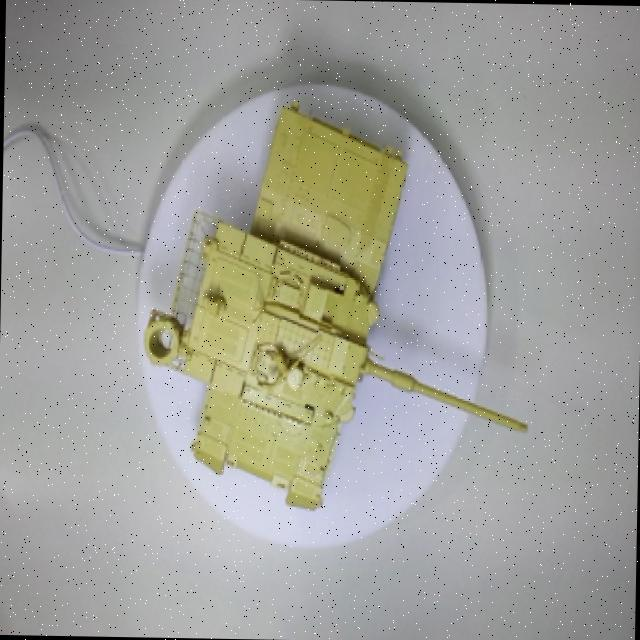korea tank: (143, 106, 572, 544)
